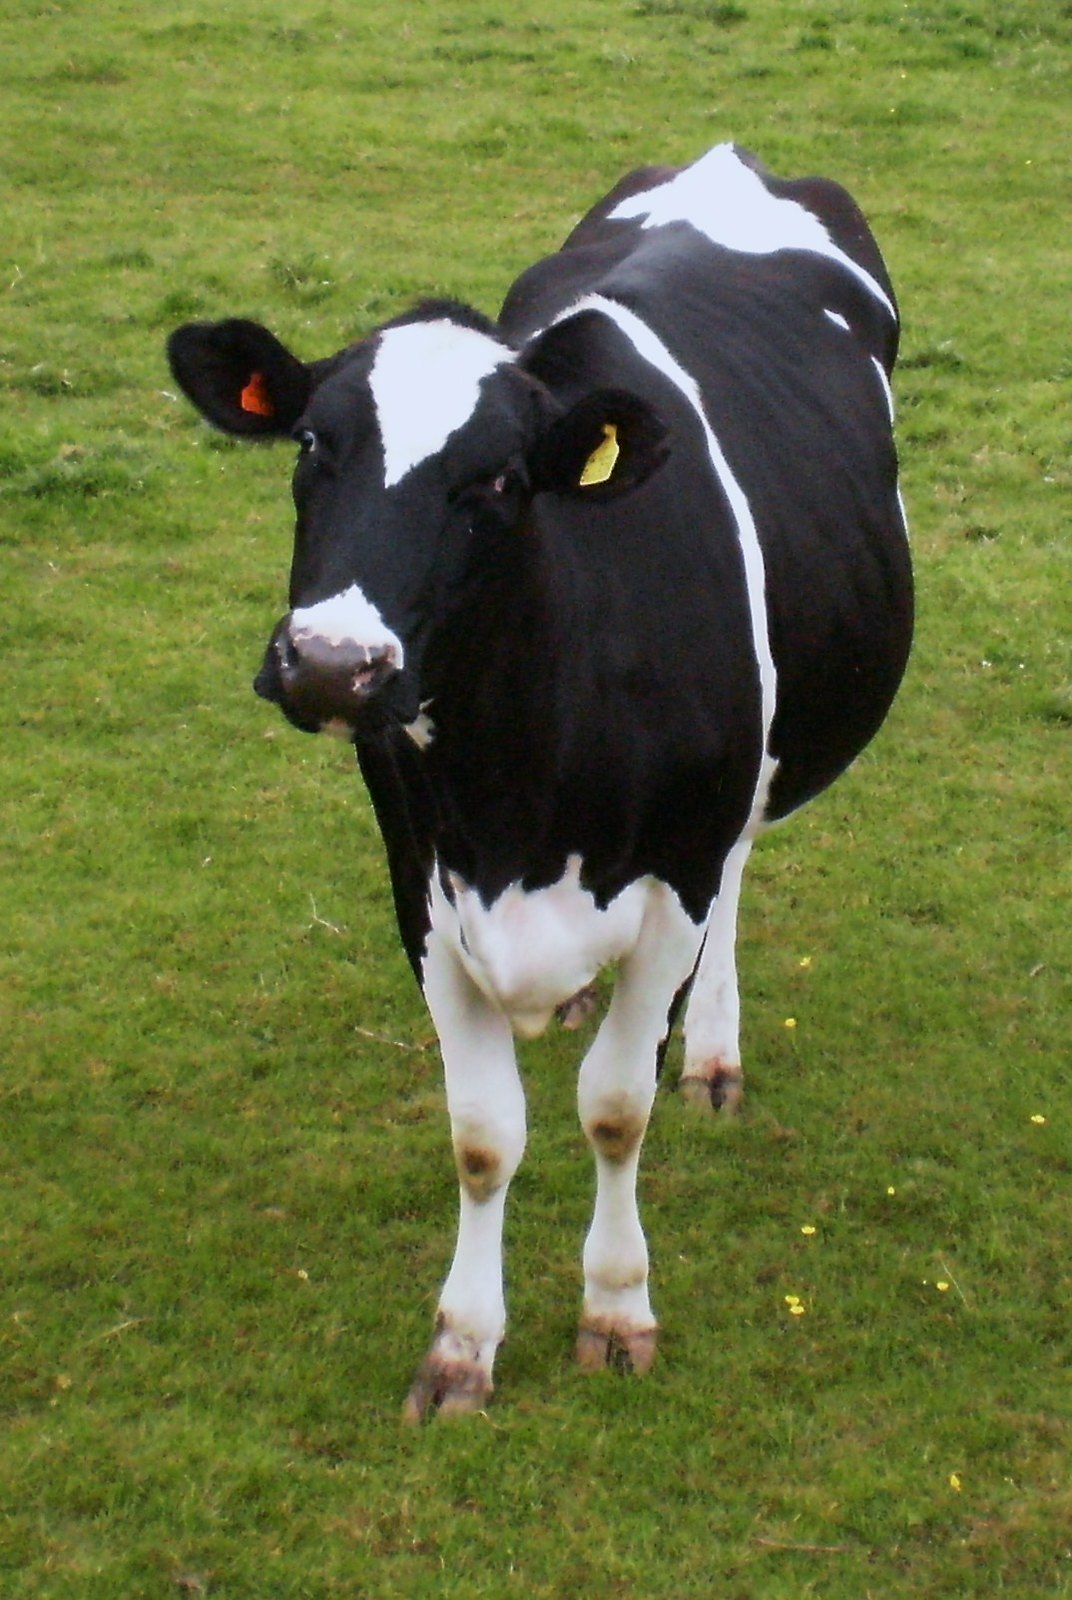cow: (182, 143, 915, 1415)
